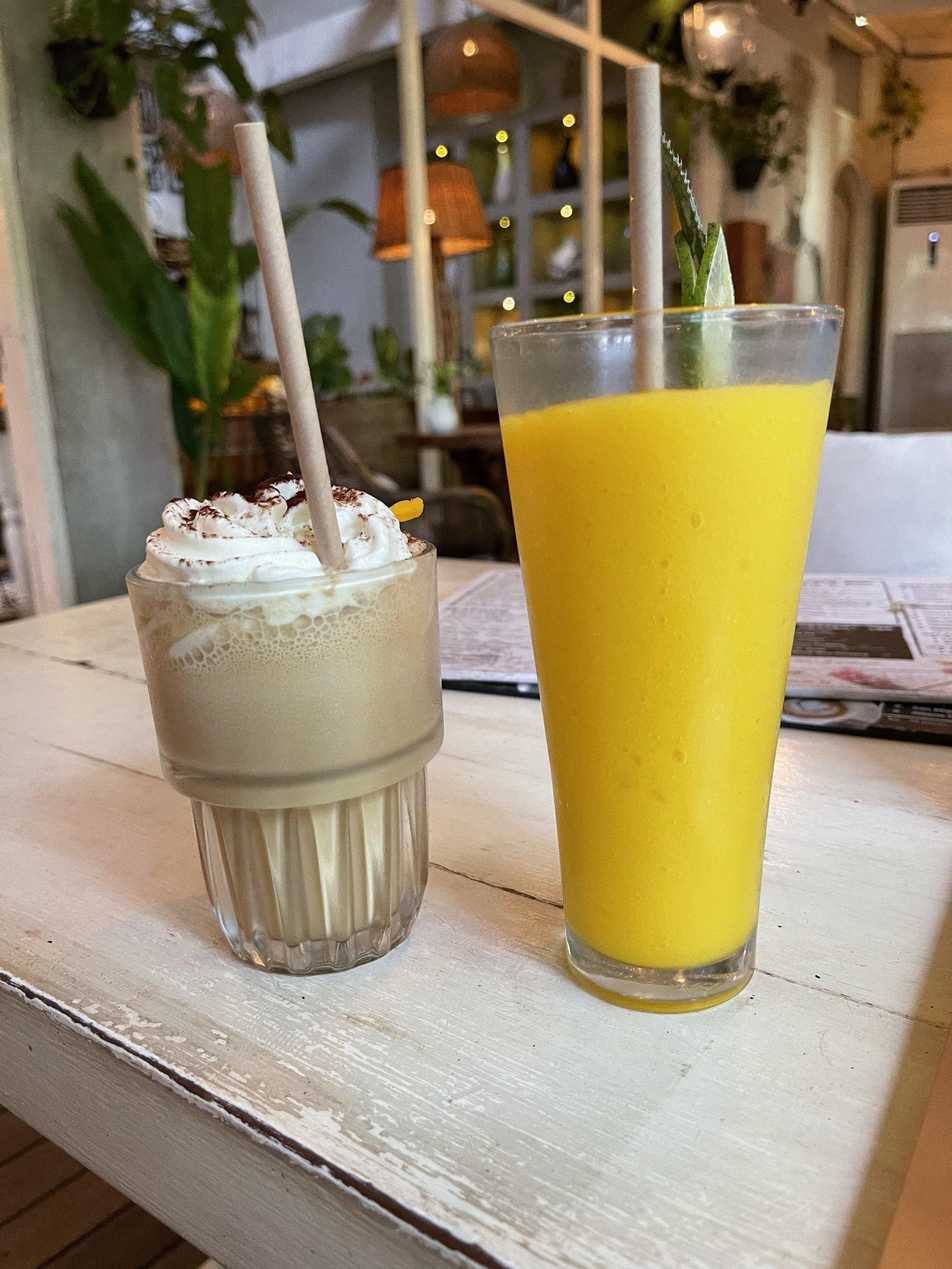glass-normal: (488, 300, 849, 1015), (125, 488, 449, 974)
